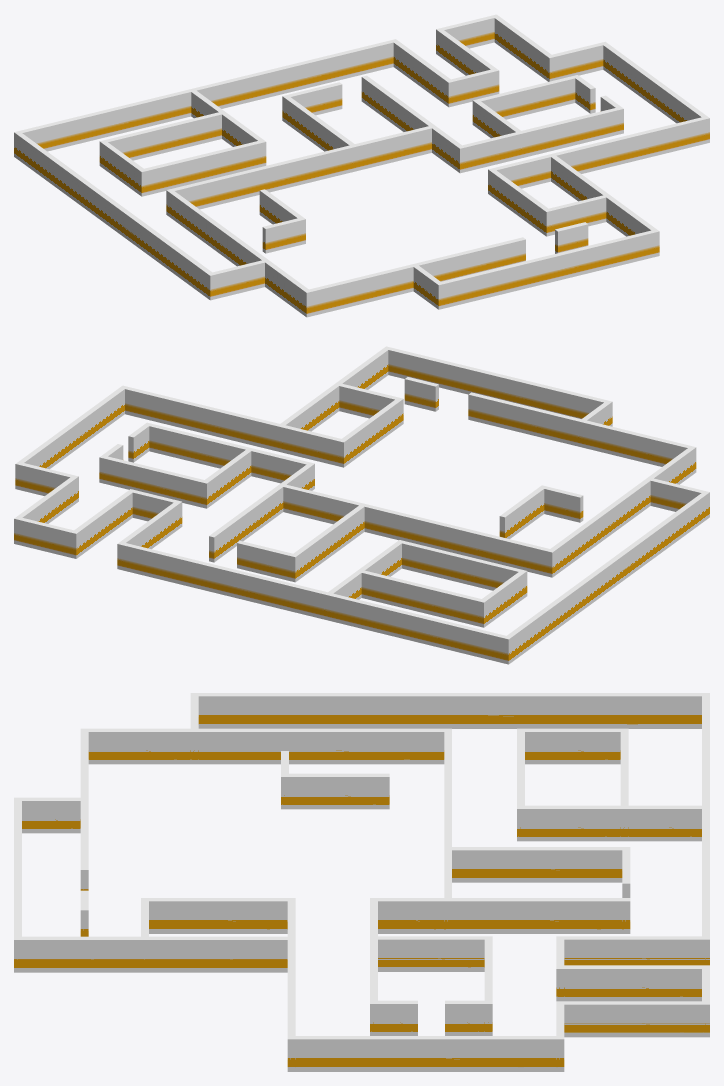
The model's file is level_02.fbx.
3 views of the same model, one above another, from view 1: azimuth 30°, elevation 25°; view 2: azimuth 150°, elevation 25°; view 3: azimuth 270°, elevation 25° (orthographic). The views are drawn at different scales.
Visible parts, largest first — view 1: pCube38; view 2: pCube38; view 3: pCube38.
Part boxes in pixels (box(x1,y1,x2,y2)): pCube38: box(14, 14, 709, 317); pCube38: box(14, 346, 709, 664); pCube38: box(14, 693, 709, 1071).
Bounding box in the file's own units: 206 × 9 × 175.
